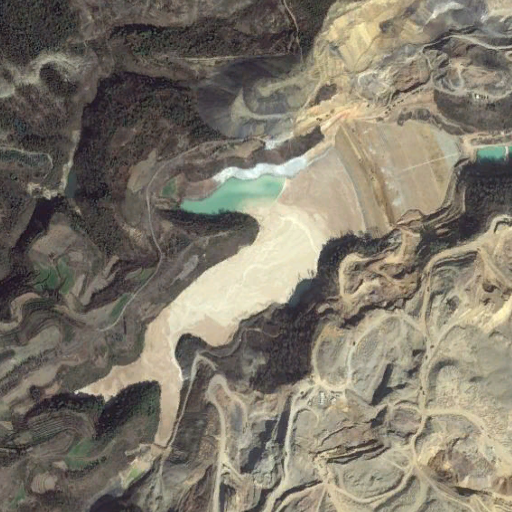tp: (74, 119, 462, 447)
